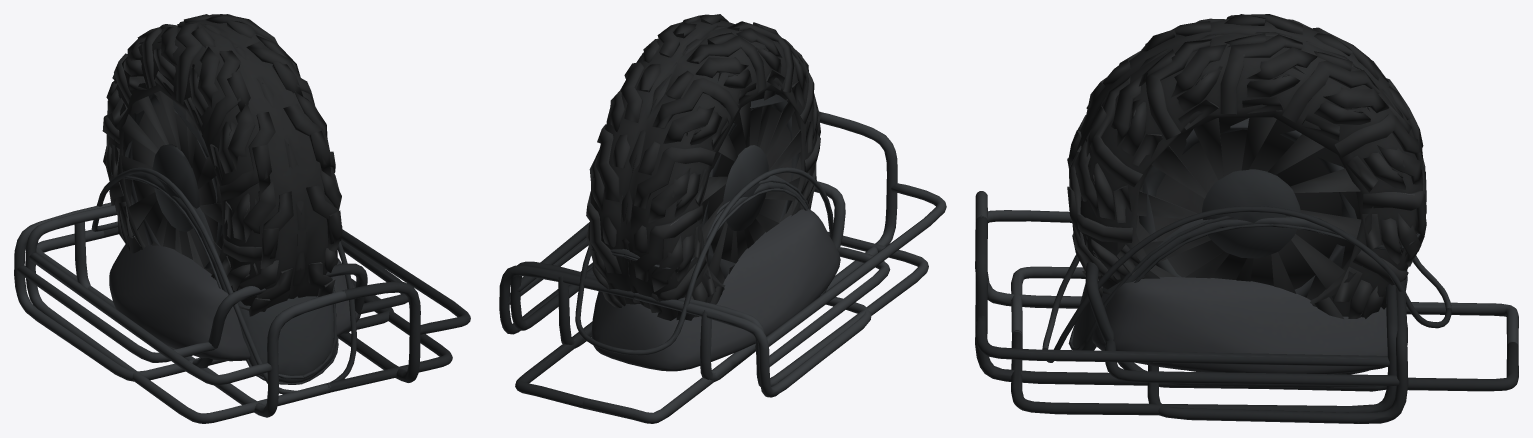
Rendered from DeliveryScooter_Items.fbx.
3 views of the same model, side by side, from view 1: azimuth 30°, elevation 25°; view 2: azimuth 150°, elevation 25°; view 3: azimuth 270°, elevation 25° (orthographic). The views are drawn at different scales.
Visible parts, largest first — view 1: scooter_WI_Tire, scooter_WI_CargoRear, scooter_WI_Seat, scooter_WI_CargoFront, scooter_WI_FenderFront, scooter_WI_FenderRear; view 2: scooter_WI_Tire, scooter_WI_Seat, scooter_WI_CargoRear, scooter_WI_CargoFront, scooter_WI_FenderRear, scooter_WI_FenderFront; view 3: scooter_WI_Tire, scooter_WI_CargoRear, scooter_WI_Seat, scooter_WI_CargoFront, scooter_WI_FenderRear, scooter_WI_FenderFront.
Part boxes in pixels (bbox=[...]): scooter_WI_Tire: bbox=[102, 14, 342, 316]; scooter_WI_CargoRear: bbox=[25, 205, 470, 423]; scooter_WI_Seat: bbox=[109, 244, 360, 361]; scooter_WI_CargoFront: bbox=[14, 202, 408, 381]; scooter_WI_FenderFront: bbox=[110, 172, 338, 384]; scooter_WI_FenderRear: bbox=[91, 167, 356, 394]; scooter_WI_Tire: bbox=[586, 14, 820, 320]; scooter_WI_Seat: bbox=[591, 209, 840, 371]; scooter_WI_CargoRear: bbox=[510, 111, 946, 423]; scooter_WI_CargoFront: bbox=[499, 181, 890, 397]; scooter_WI_FenderRear: bbox=[575, 167, 833, 355]; scooter_WI_FenderFront: bbox=[591, 175, 810, 269]; scooter_WI_Tire: bbox=[1067, 14, 1426, 318]; scooter_WI_CargoRear: bbox=[975, 191, 1518, 415]; scooter_WI_Seat: bbox=[1092, 277, 1407, 374]; scooter_WI_CargoFront: bbox=[1085, 262, 1408, 423]; scooter_WI_FenderRear: bbox=[1042, 206, 1451, 362]; scooter_WI_FenderFront: bbox=[1068, 214, 1420, 350].
Bounding box in the file's own units: 4.76 × 4.93 × 7.45.
